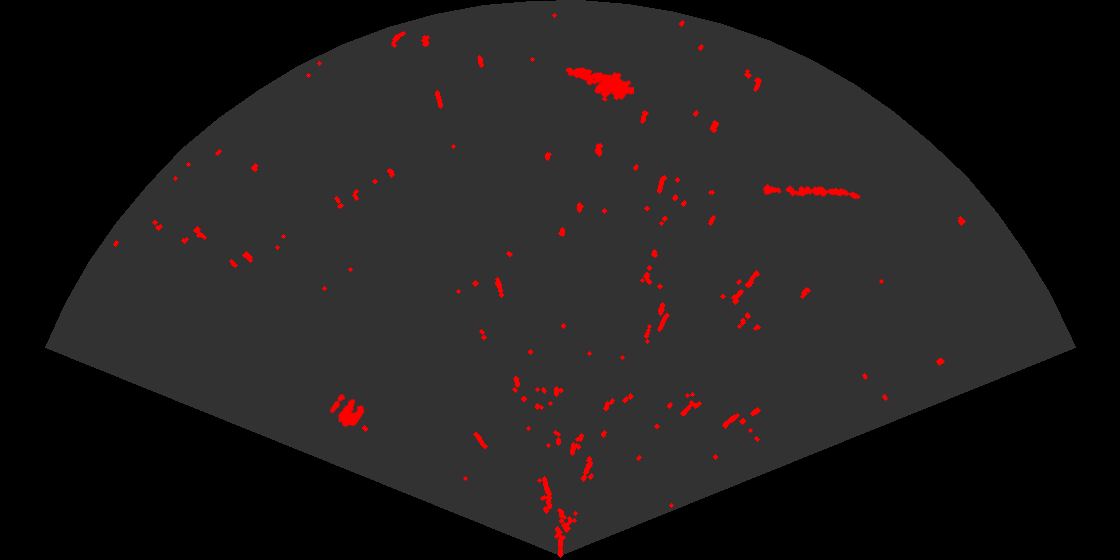ball: (329, 393, 366, 428)
chain: (762, 182, 862, 201)
frogman: (564, 66, 634, 103)
